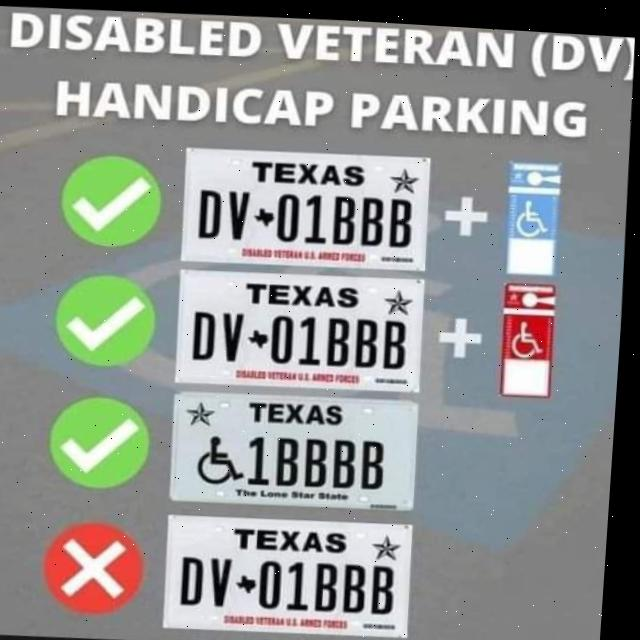symbol_of_access: (183, 419, 256, 492), (501, 302, 560, 366), (508, 181, 559, 245)
